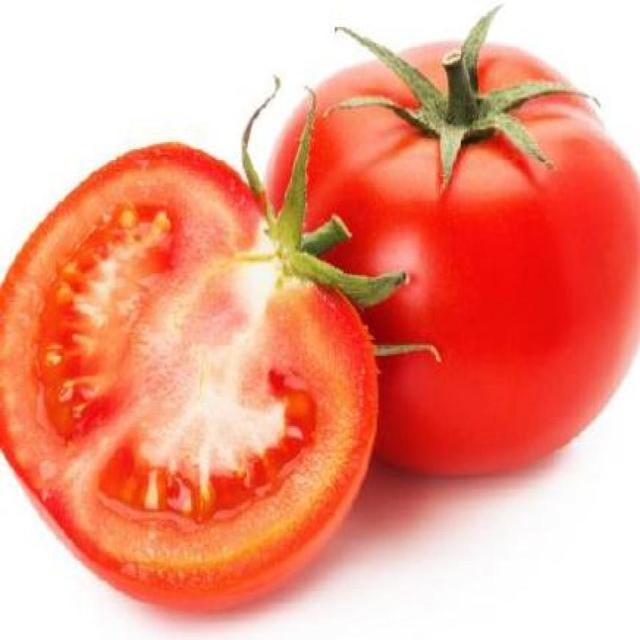Healthy Fruit: (190, 30, 427, 309)
